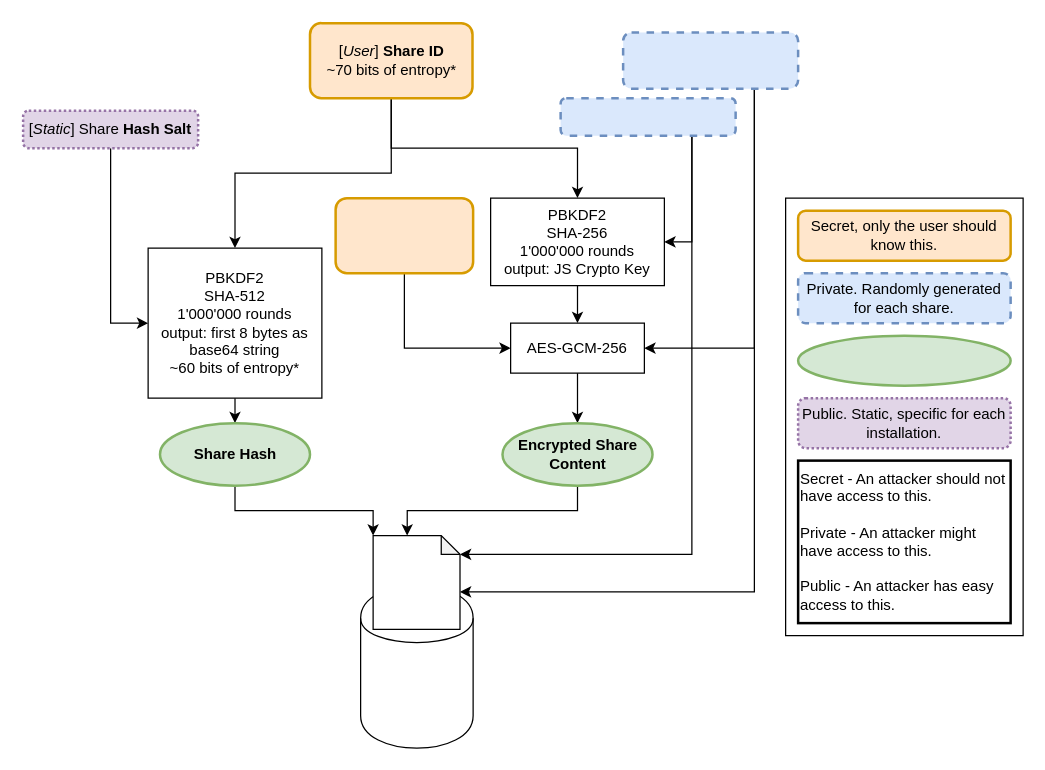
Some shapes in this 1045 by 770 pixel diagram are drawn without their labels. The shapes that lost their labels are listed below. From the top down, each one's box as (x1, y1, x2, y2) in pixels, then its label:
(621, 31, 799, 89): [ Random ] Share Encryption IV
(559, 96, 736, 136): [ Random ] Share Key Salt
(334, 196, 474, 274): [ User ] Share Content
(796, 334, 1011, 386): Private. Sent to server.
(359, 584, 473, 748): TLS 1.2 or above through CDN to the server
